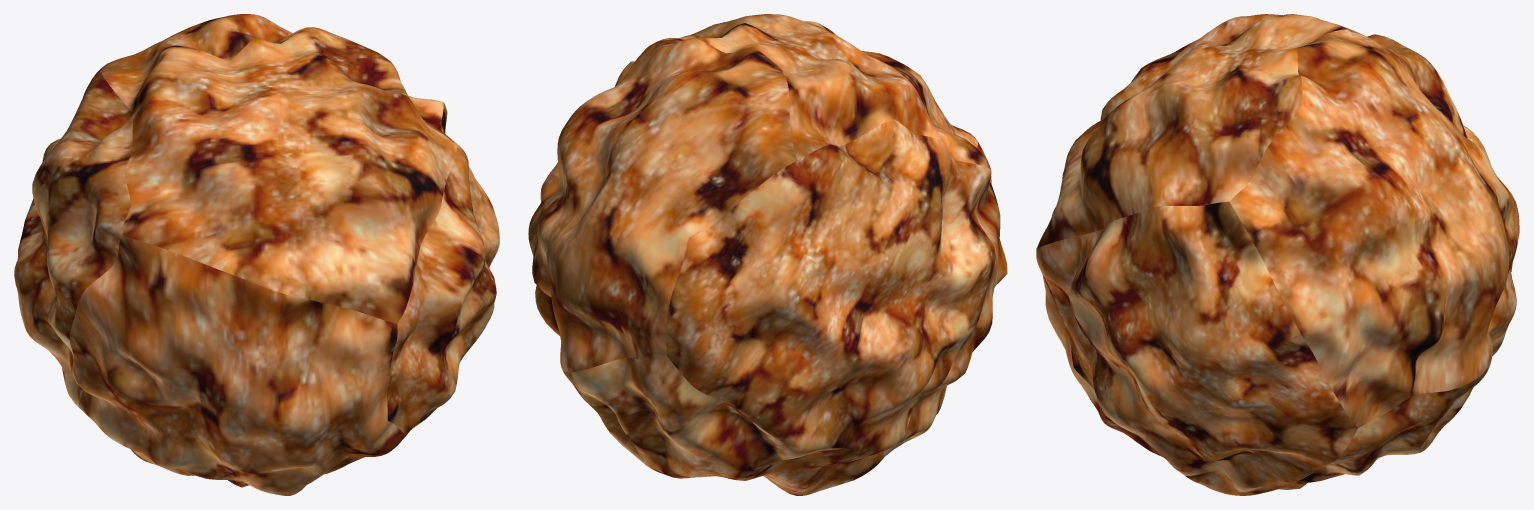
File: meatball.fbx
3 renders of one model, left to right at view 1: azimuth 30°, elevation 25°; view 2: azimuth 150°, elevation 25°; view 3: azimuth 270°, elevation 25°, orthographic.
Parts seen in each view (by area): view 1: Icosphere; view 2: Icosphere; view 3: Icosphere.
Boxes of the visible parts, left/top/right/bottom form: Icosphere: left=14, top=14, right=499, bottom=495; Icosphere: left=528, top=14, right=1007, bottom=495; Icosphere: left=1036, top=14, right=1519, bottom=495.
Size of the model in its own units: 215 by 212 by 217.
